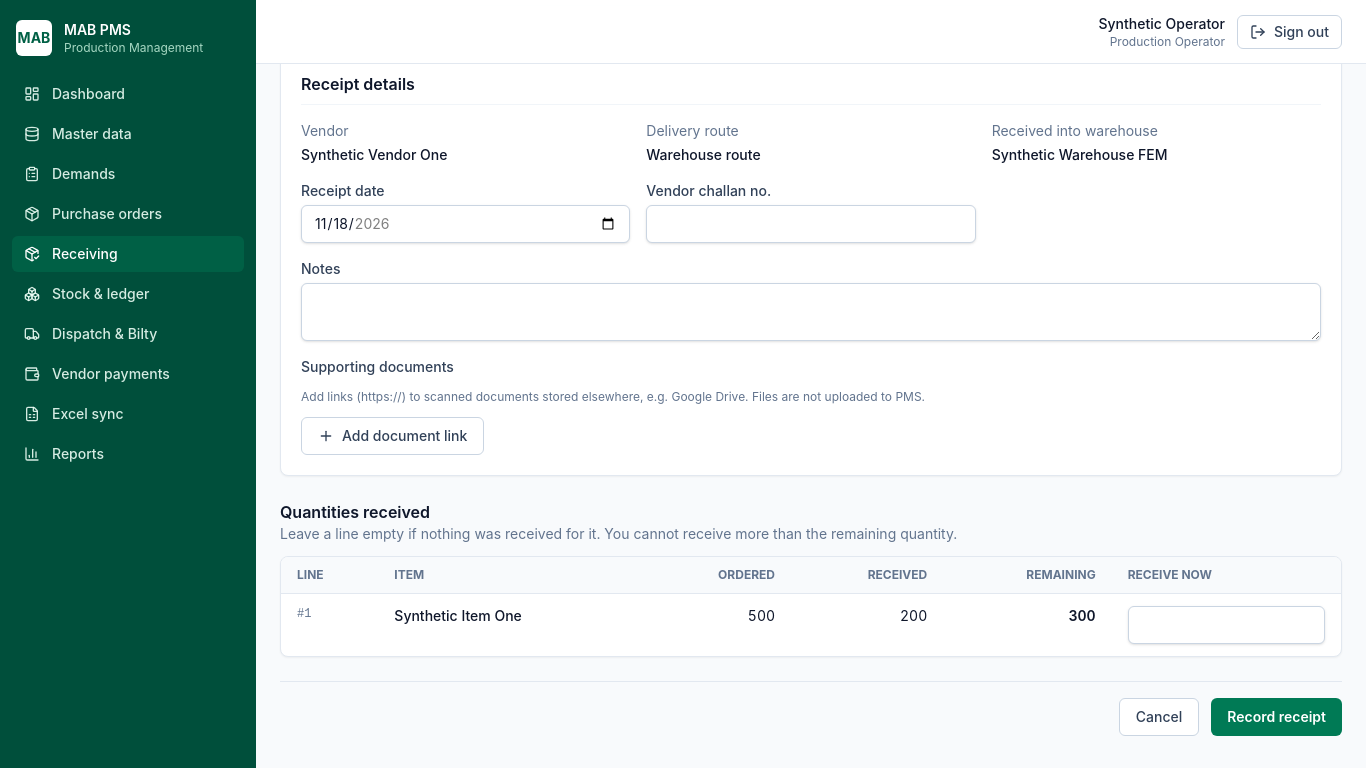
Test: Receipt form › submits the receipt with the CSRF token and opens the new receipt
The image size is (1366, 768).
(page scrolled)
Type "200" into the number field named "Line 1 quantity to receive". click: (1226, 625)
box: [1128,606,1325,644]
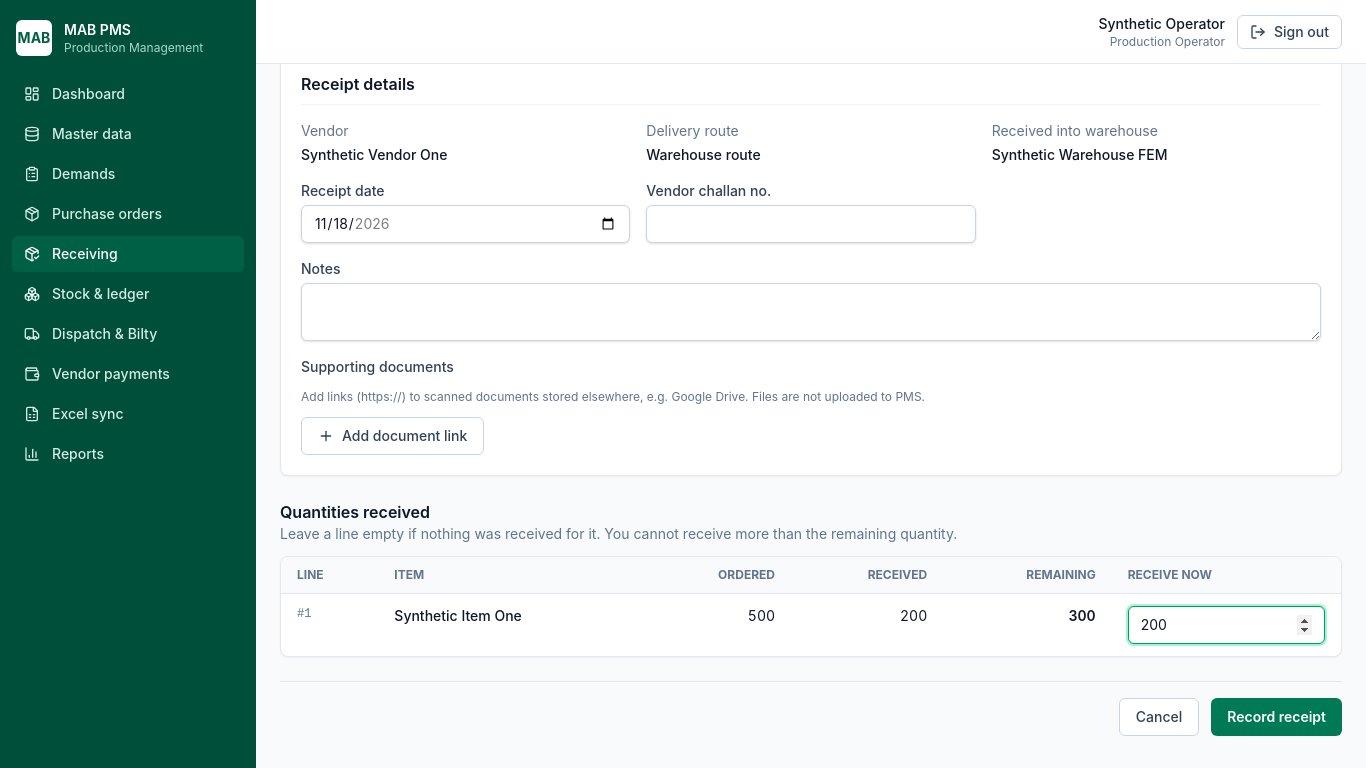
Type "  SYN-CH-1 " into the field labelled "Vendor challan no.". click: (811, 224)
box: [646,205,976,243]
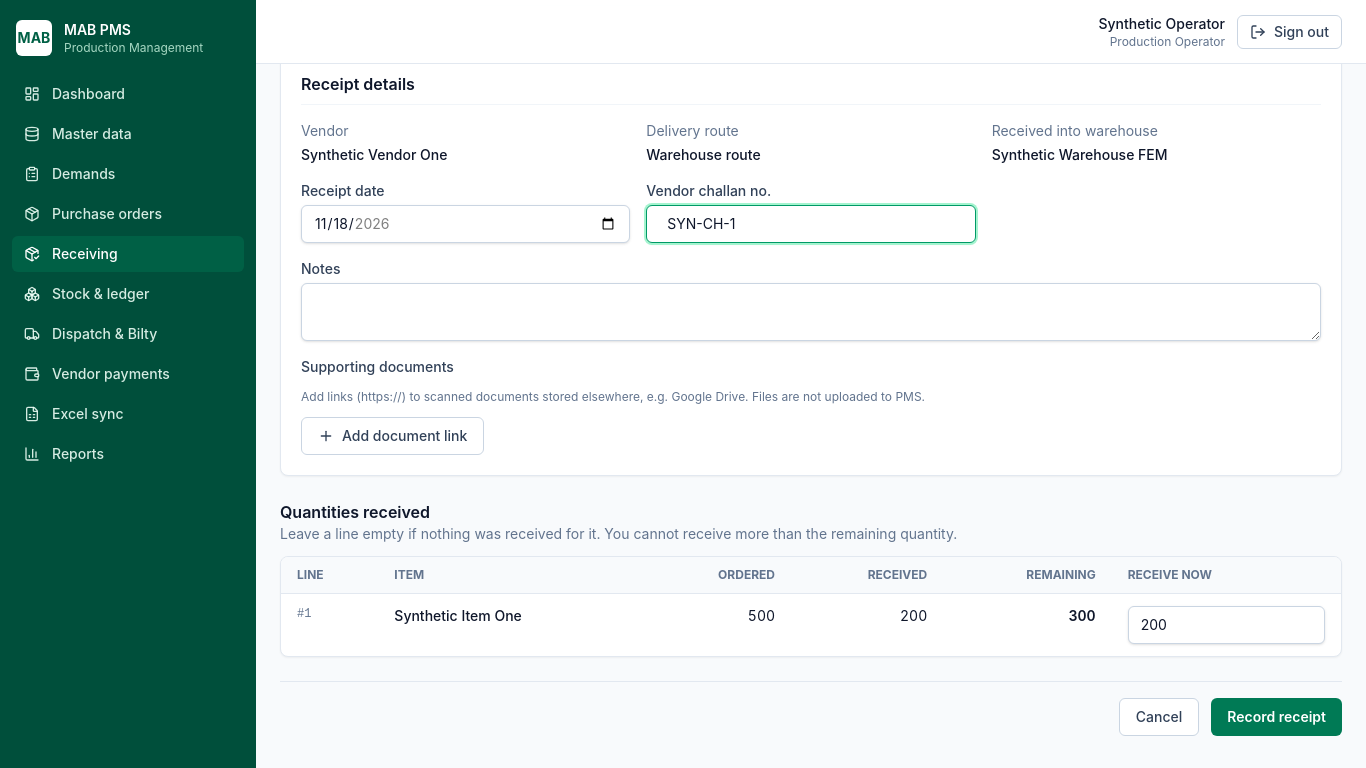
Click the button "Record receipt". click: (1277, 717)
box: [1211,698,1342,736]
(page scrolled)
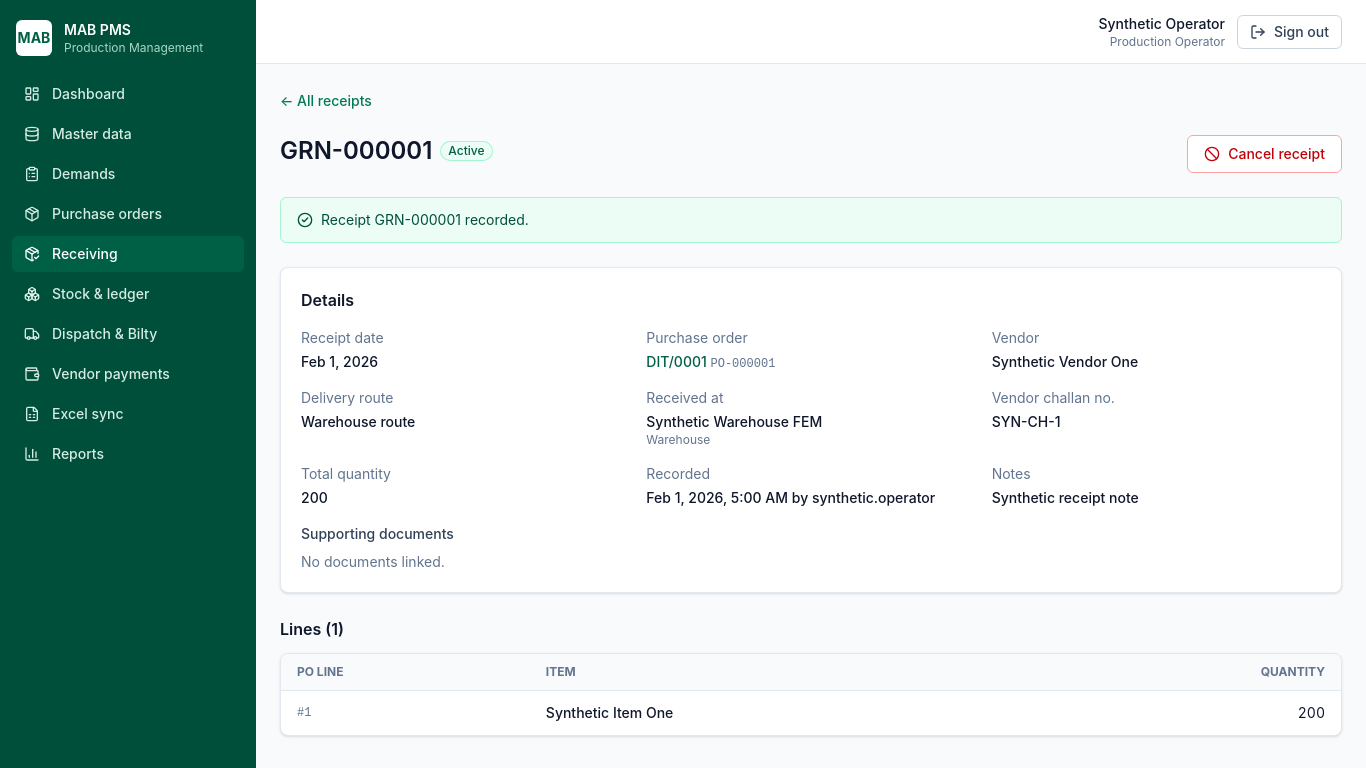
Now the heading "GRN-000001" is shown, box [280,135,432,167]
Now the text "Receipt GRN-000001 recorded." is shown, box [321,210,529,230]
